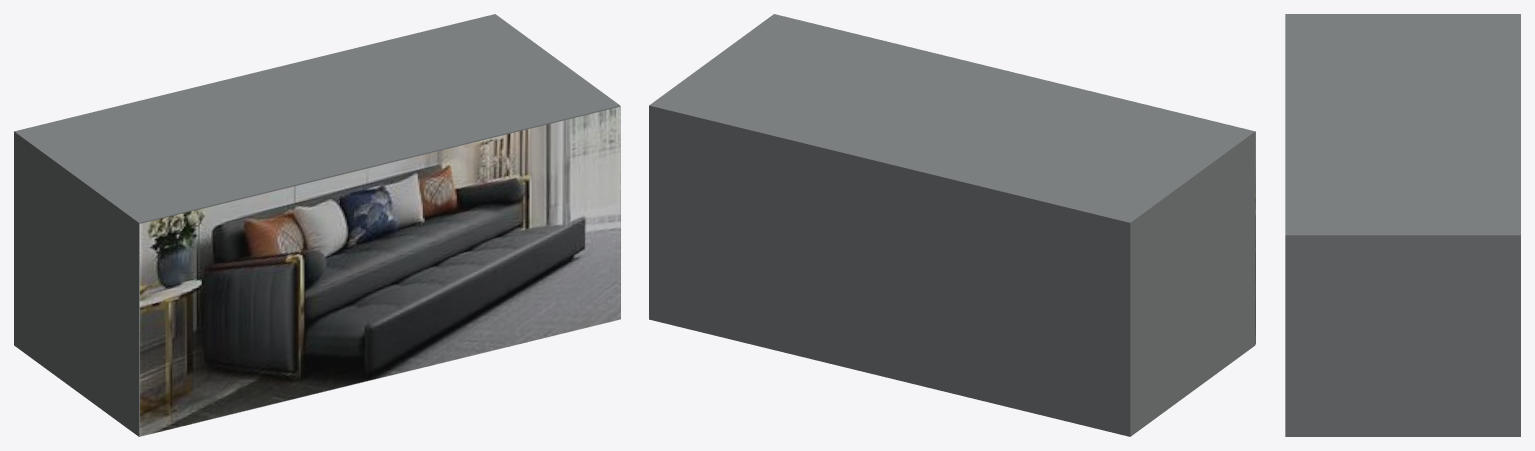
The model's file is mocan-82.glb.
3 views of the same model, side by side, from view 1: azimuth 30°, elevation 25°; view 2: azimuth 150°, elevation 25°; view 3: azimuth 270°, elevation 25° (orthographic). The views are drawn at different scales.
Visible parts, largest first — view 1: furniture; view 2: furniture; view 3: furniture.
Boxes of the visible parts, box(x1,y1,x2,y2) form: furniture: box(14, 14, 620, 436); furniture: box(649, 14, 1255, 436); furniture: box(1285, 14, 1520, 436).
Bounding box in the file's own units: 2 × 0.85 × 0.904.
2 materials, 1 textured.
